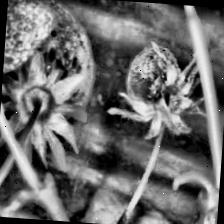Gray Mold: (105, 40, 214, 144)
